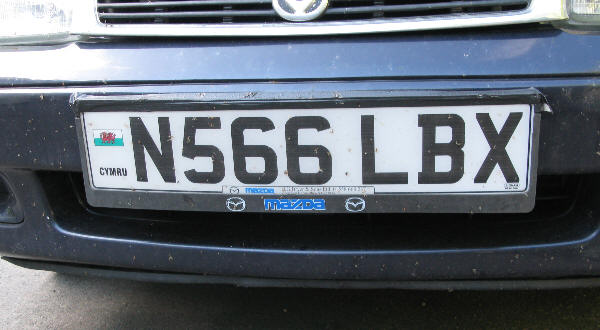license_plate: (80, 101, 534, 195)
